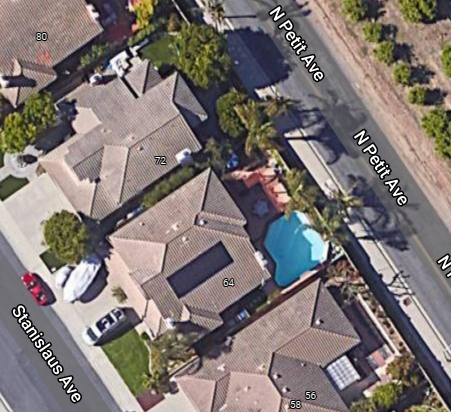poolww: (252, 206, 336, 291)
